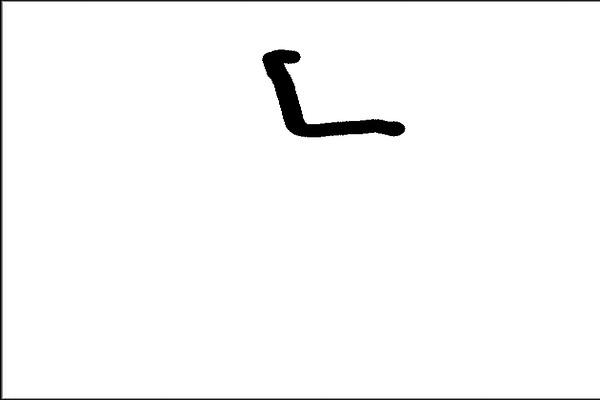L: (251, 38, 411, 140)
